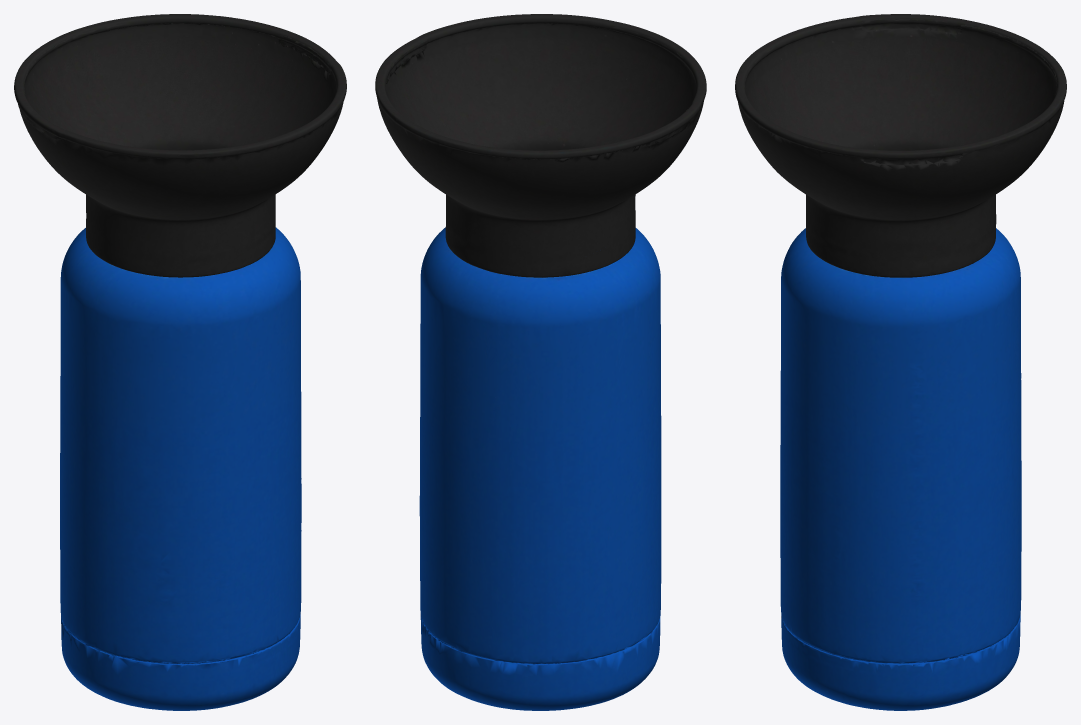
The model's file is TERMO-PARA-MASCOTA.glb.
3 views of the same model, side by side, from view 1: azimuth 30°, elevation 25°; view 2: azimuth 150°, elevation 25°; view 3: azimuth 270°, elevation 25° (orthographic).
Visible parts, largest first — view 1: tripo_node_07c1b7b9-b0f1-4900-9188-1c8409830cf1; view 2: tripo_node_07c1b7b9-b0f1-4900-9188-1c8409830cf1; view 3: tripo_node_07c1b7b9-b0f1-4900-9188-1c8409830cf1.
Boxes of the visible parts, left/top/right/bottom form: tripo_node_07c1b7b9-b0f1-4900-9188-1c8409830cf1: left=14, top=14, right=346, bottom=710; tripo_node_07c1b7b9-b0f1-4900-9188-1c8409830cf1: left=375, top=14, right=706, bottom=710; tripo_node_07c1b7b9-b0f1-4900-9188-1c8409830cf1: left=735, top=14, right=1066, bottom=710.
Bounding box in the file's own units: 0.5056 × 0.9804 × 0.504.
1 material, 1 textured.
